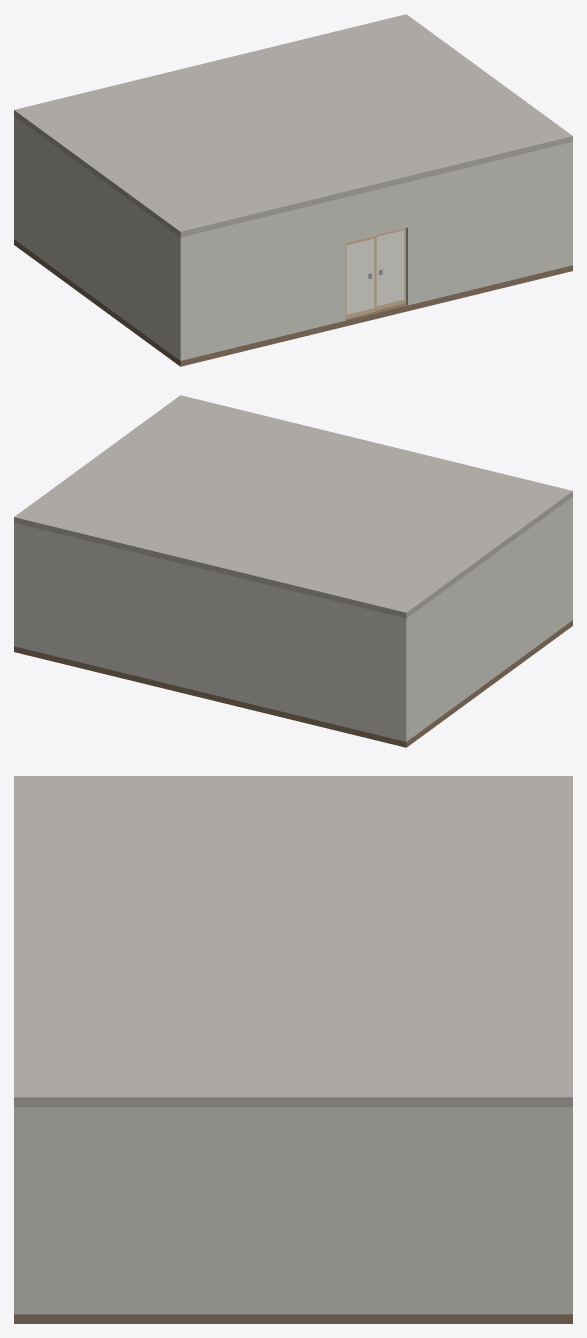
File: Stage5_StorageRoom.fbx
The picture shows the model from 3 angles, top to bottom: view 1: azimuth 30°, elevation 25°; view 2: azimuth 150°, elevation 25°; view 3: azimuth 270°, elevation 25°; orthographic projection. The views are drawn at different scales.
Parts seen in each view (by area): view 1: Stage5_StorageRoom; view 2: Stage5_StorageRoom; view 3: Stage5_StorageRoom.
Part boxes in pixels (box(x1,y1,x2,y2)): Stage5_StorageRoom: box(14, 14, 572, 366); Stage5_StorageRoom: box(14, 395, 572, 747); Stage5_StorageRoom: box(14, 776, 572, 1323).
Size of the model in its own units: 1132 by 372 by 832.
